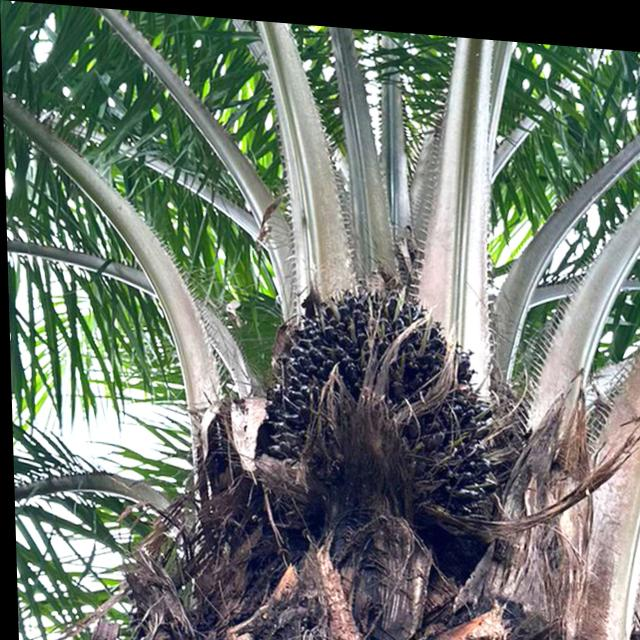unripe: (256, 267, 507, 519)
